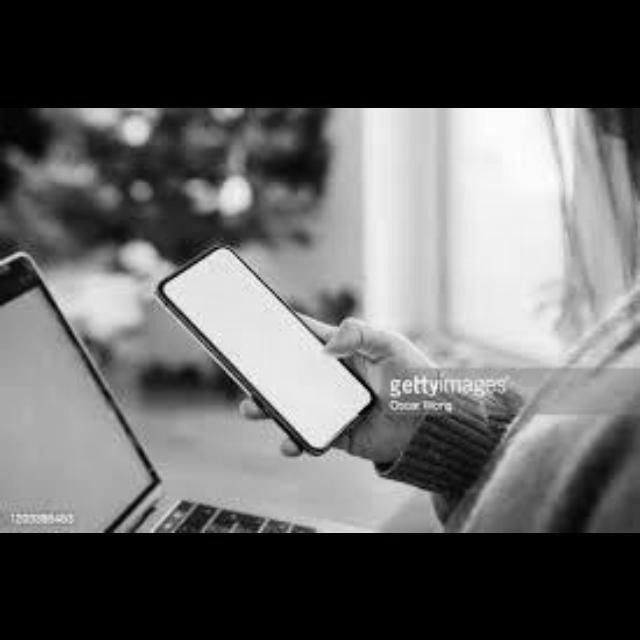fake: (148, 224, 378, 454)
